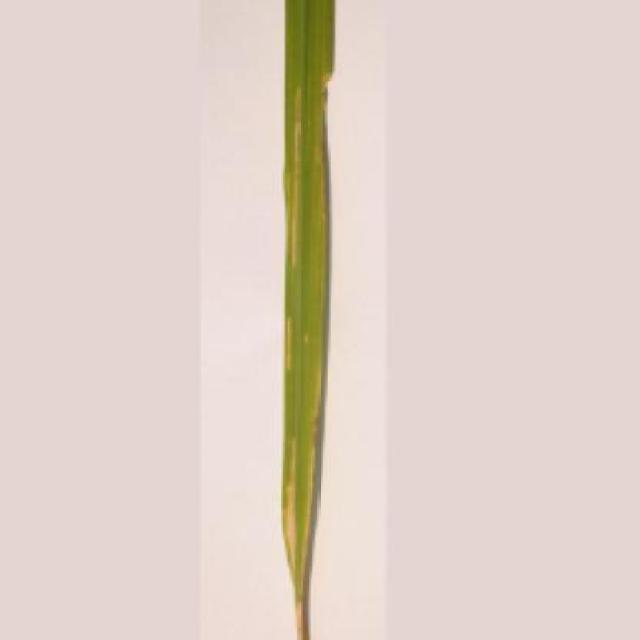Brown_Spot: (278, 0, 338, 640)
